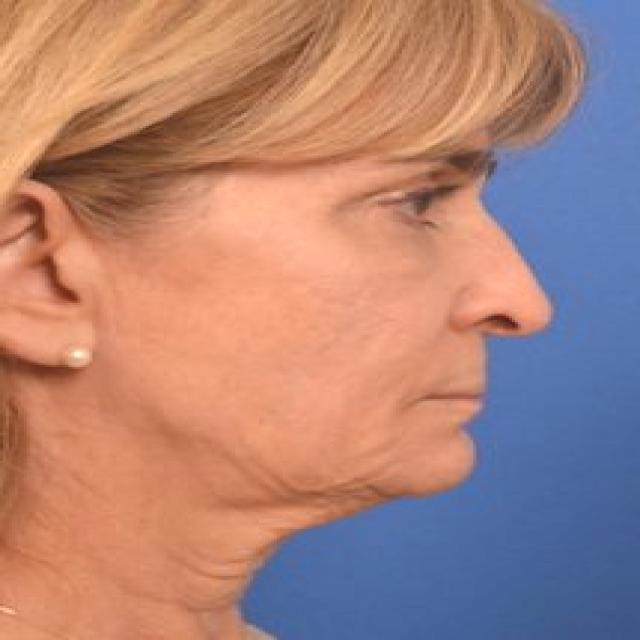normal_face: (0, 54, 589, 476)
